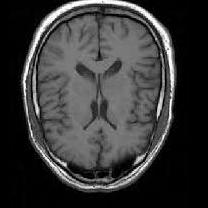Normal_Brain: (4, 1, 208, 208)
